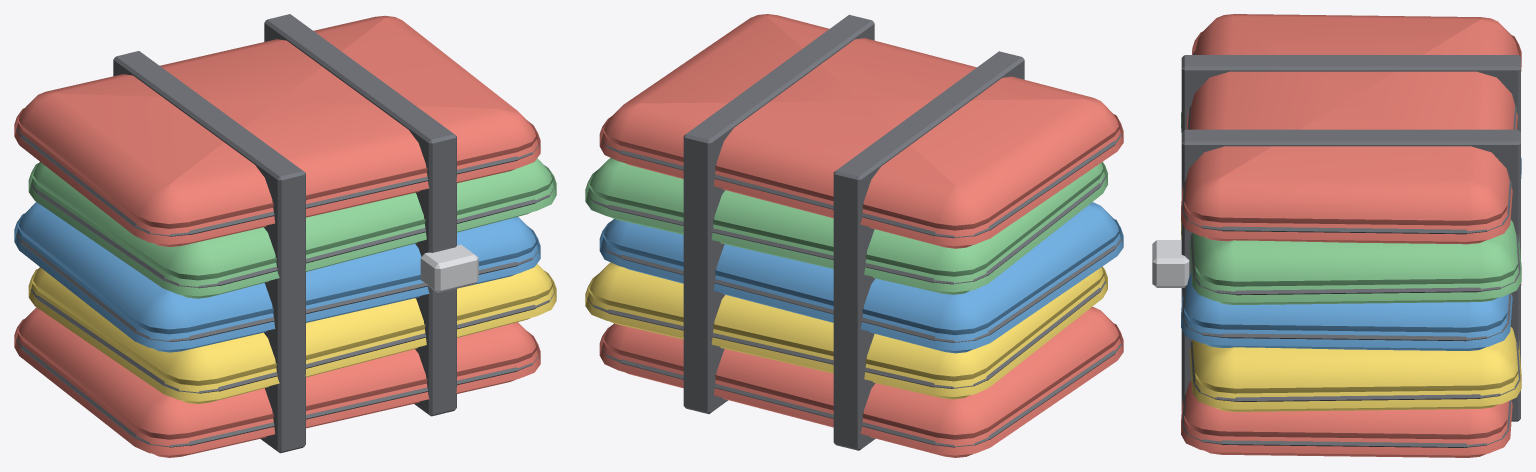
File: nursery-and-primary-classroom-nap-mat-stack-bdac4cf5__35013.glb
The picture shows the model from 3 angles, left to right: view 1: azimuth 30°, elevation 25°; view 2: azimuth 150°, elevation 25°; view 3: azimuth 270°, elevation 25°; orthographic projection. The views are drawn at different scales.
Visible parts, largest first — view 1: nap-mat-stack; view 2: nap-mat-stack; view 3: nap-mat-stack.
Boxes of the visible parts, <box> form: nap-mat-stack: <box>14,14,556,457</box>; nap-mat-stack: <box>585,14,1123,457</box>; nap-mat-stack: <box>1152,14,1521,457</box>.
Size of the model in its own units: 0.6608 by 0.42 by 0.5011.
